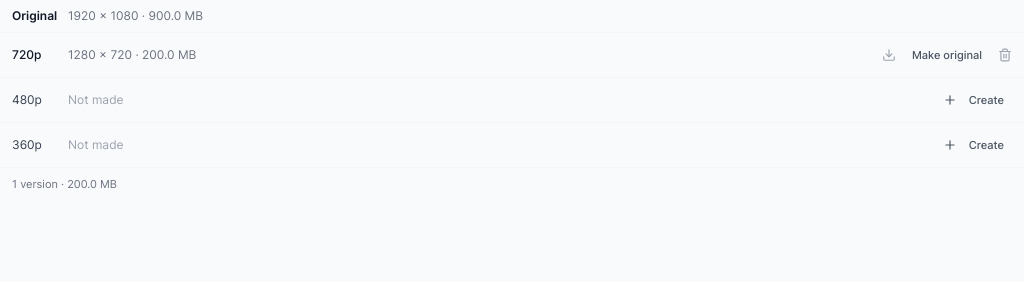
Test: VersionsTab › asks before deleting a version
Click the button named "Delete the 720p version": (1005, 55) [998, 48, 1012, 62]
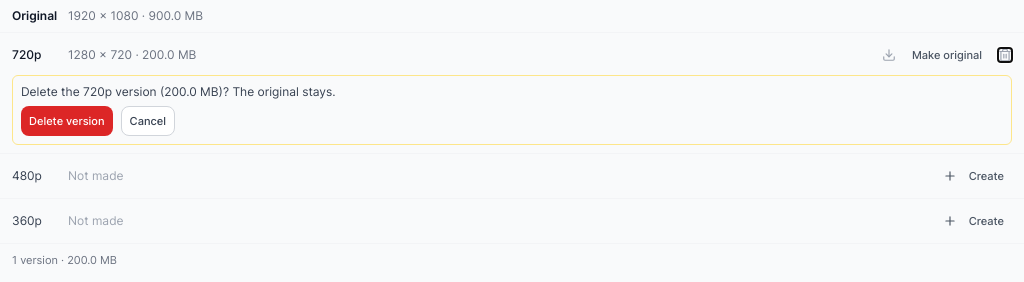
Click the button "Delete version": (67, 121) [21, 106, 112, 136]
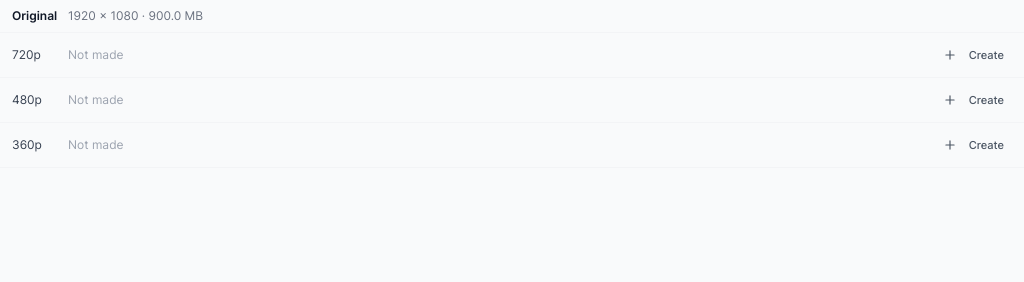
Now the text "1280 × 720 · 200.0 MB" is gone
